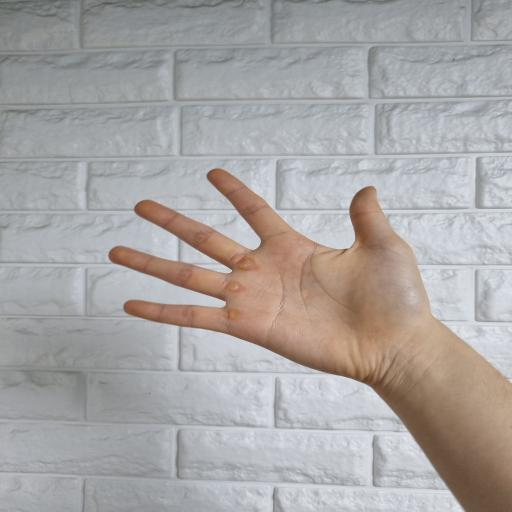Paper: (108, 168, 454, 390)
